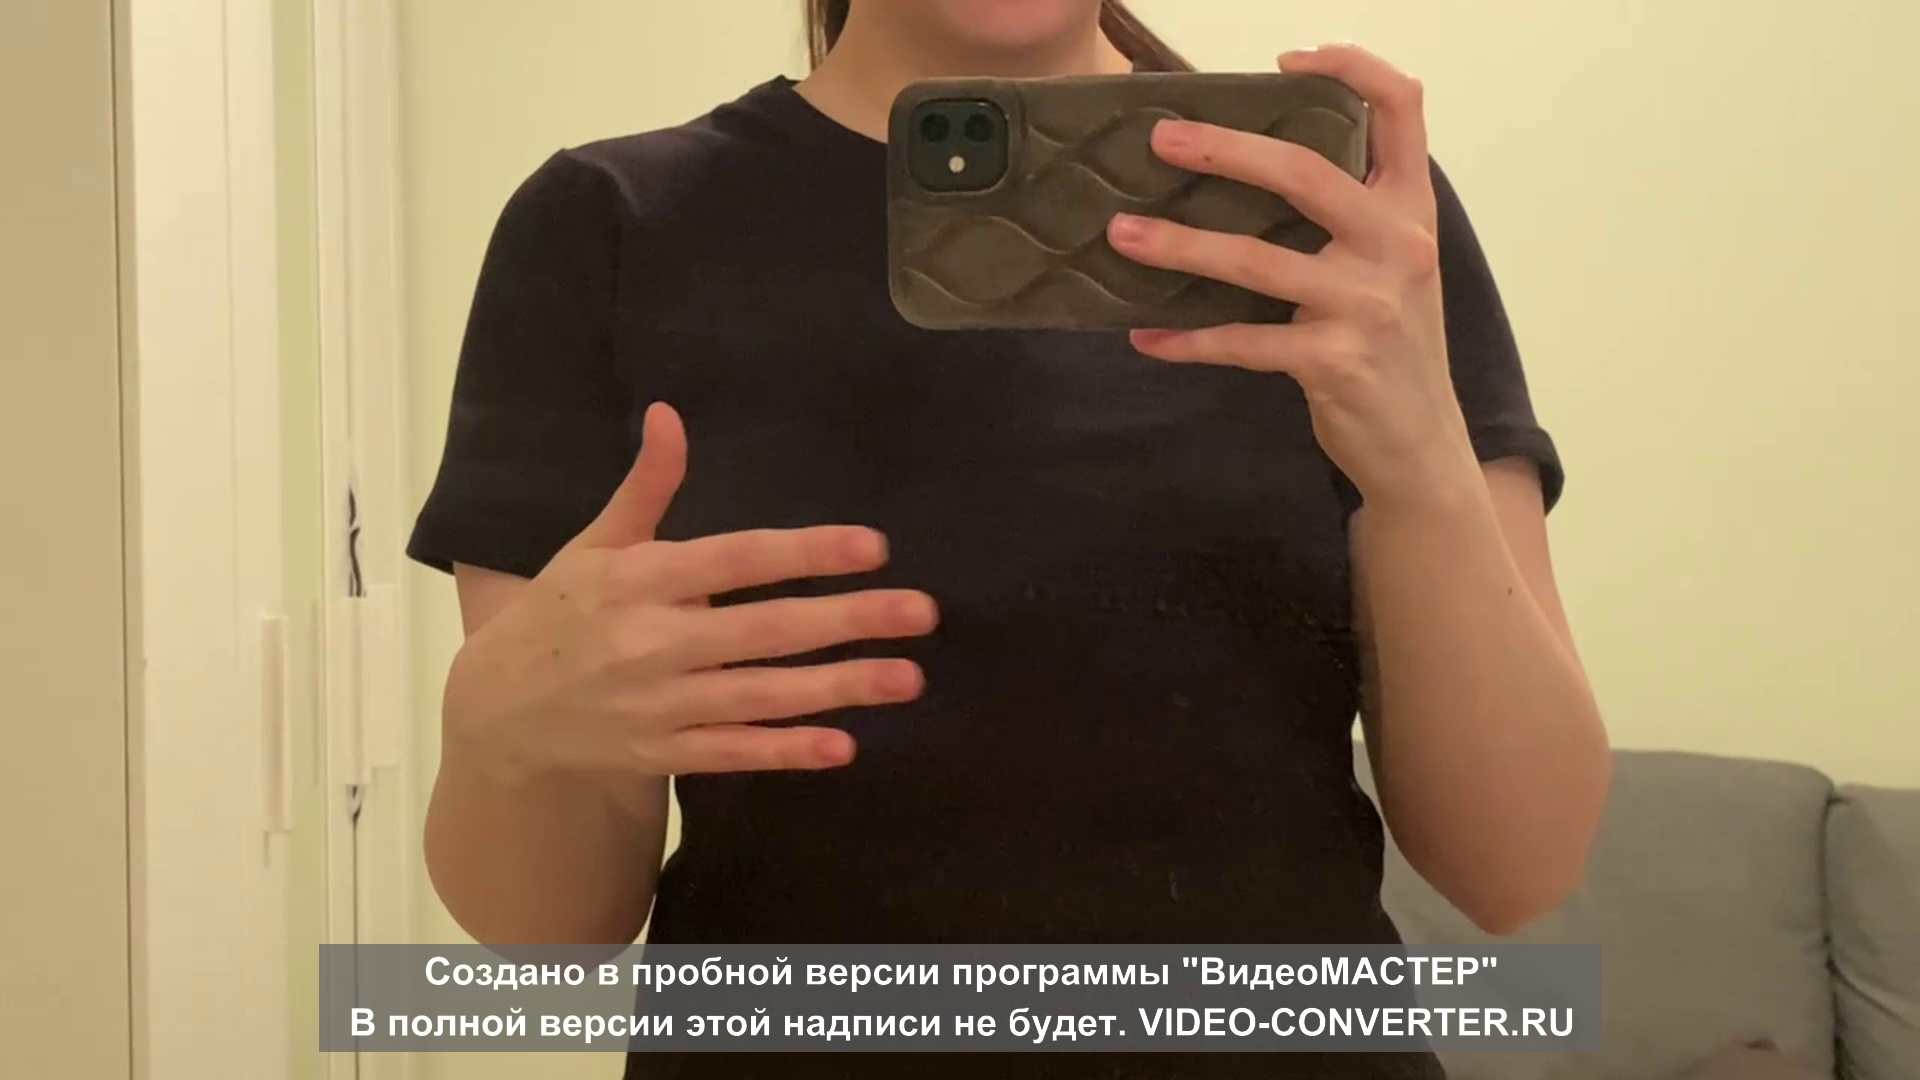Кисть: (436, 404, 939, 777)
